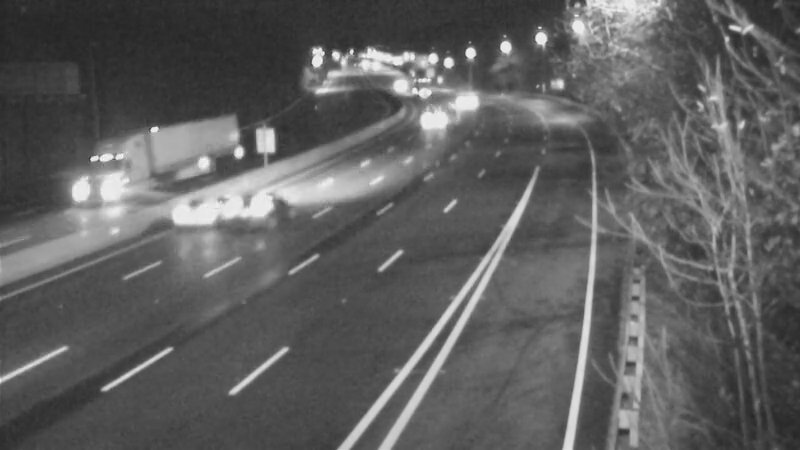vehicle: (209, 172, 289, 252), (157, 166, 237, 246), (61, 136, 141, 216), (374, 60, 424, 110), (395, 60, 445, 110), (438, 74, 488, 124), (407, 92, 457, 142)
